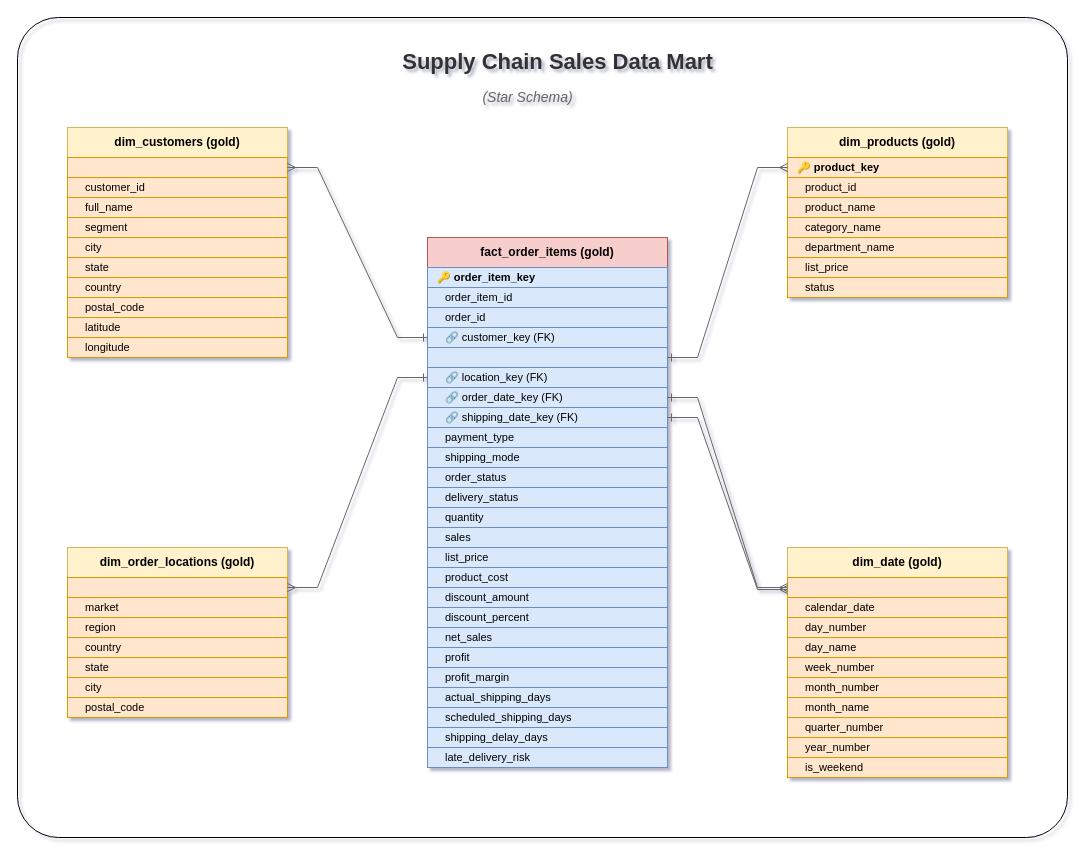
Image size: 1091x861. Some labels were removed from this diagram. Here are the shapes that lost their labels. From the top down, the box of each, then its label:
(66, 156, 288, 178): 🔑 customer_key
(426, 346, 668, 368): 🔗 product_key (FK)
(66, 576, 288, 598): 🔑 location_key
(786, 576, 1008, 598): 🔑 date_key
